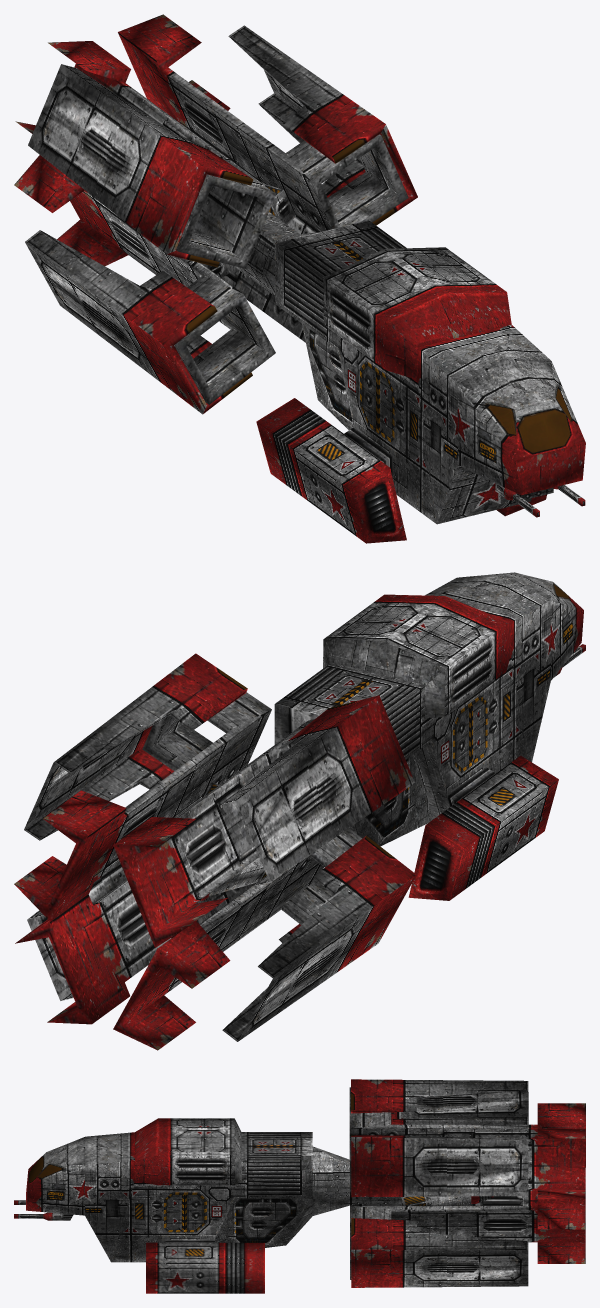
Rendered from kamov.glb.
3 renders of one model, top to bottom at view 1: azimuth 30°, elevation 25°; view 2: azimuth 150°, elevation 25°; view 3: azimuth 270°, elevation 25°, orthographic. The views are drawn at different scales.
Parts seen in each view (by area): view 1: Kamov Body, Kam torp flap1, Kam torp hold2, Kam torp flap4, Kam torp hold4, Kam torp flap2, Kam torp hold1, Kam torp hold3; view 2: Kamov Body, Kam torp flap1, Kam torp hold2, Kam torp hold1, Kam torp flap4, Kam torp hold4, Kam torp flap2, Kam torp hold3, Kam torp flap3, Kam link rod4; view 3: Kamov Body, Kam torp flap2, Kam torp flap3, Kam torp hold3, Kam torp flap1, Kam torp hold1, Kam torp hold2, Kam torp hold4, Kam link rod3, Kamov tur gun2.
Boxes of the visible parts, x1,y1,x2,y2 form: Kamov Body: (234, 212, 585, 543); Kam torp flap1: (28, 64, 253, 267); Kam torp hold2: (118, 14, 408, 231); Kam torp flap4: (25, 230, 252, 414); Kam torp hold4: (14, 155, 275, 404); Kam torp flap2: (228, 25, 417, 225); Kam torp hold1: (15, 41, 276, 268); Kam torp hold3: (222, 263, 305, 342); Kamov Body: (200, 572, 583, 900); Kam torp flap1: (221, 695, 414, 886); Kam torp hold2: (14, 692, 271, 921); Kam torp hold1: (113, 719, 314, 947); Kam torp flap4: (222, 835, 416, 1041); Kam torp hold4: (113, 828, 362, 1050); Kam torp flap2: (24, 653, 247, 840); Kam torp hold3: (15, 880, 255, 1024); Kam torp flap3: (27, 863, 126, 1000); Kam link rod4: (208, 857, 266, 896); Kamov Body: (26, 1118, 493, 1293); Kam torp flap2: (351, 1135, 528, 1197); Kam torp flap3: (351, 1218, 528, 1287); Kam torp hold3: (350, 1199, 585, 1279); Kam torp flap1: (351, 1079, 528, 1124); Kam torp hold1: (349, 1087, 585, 1167); Kam torp hold2: (350, 1128, 585, 1199); Kam torp hold4: (350, 1190, 537, 1205); Kam link rod3: (401, 1196, 471, 1205); Kamov tur gun2: (14, 1212, 63, 1220).
Bounding box in the file's own units: 776 × 769 × 2433.
Materials: 1 (1 with a texture image).
